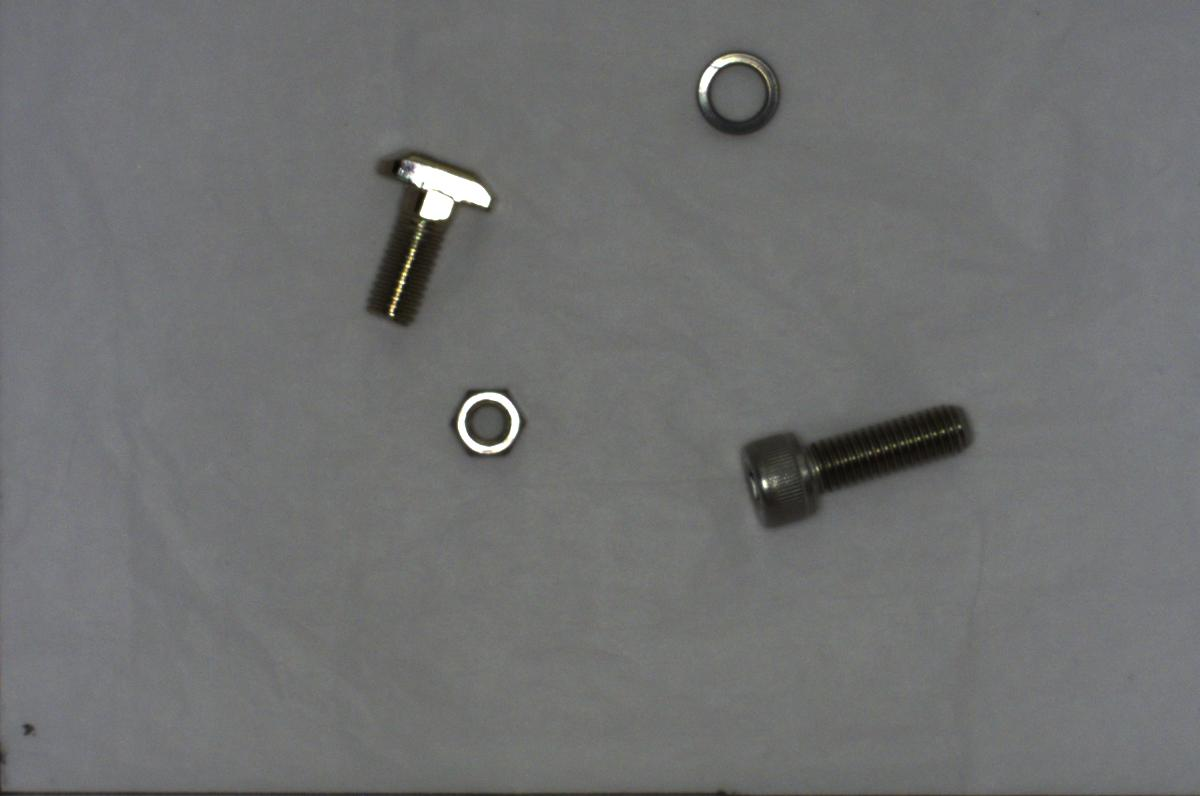Hexagon nut: (439, 375, 530, 466)
Hexagon screw: (722, 389, 979, 539)
Spring washer: (688, 35, 787, 138)
T-shaped screw: (357, 143, 497, 325)
